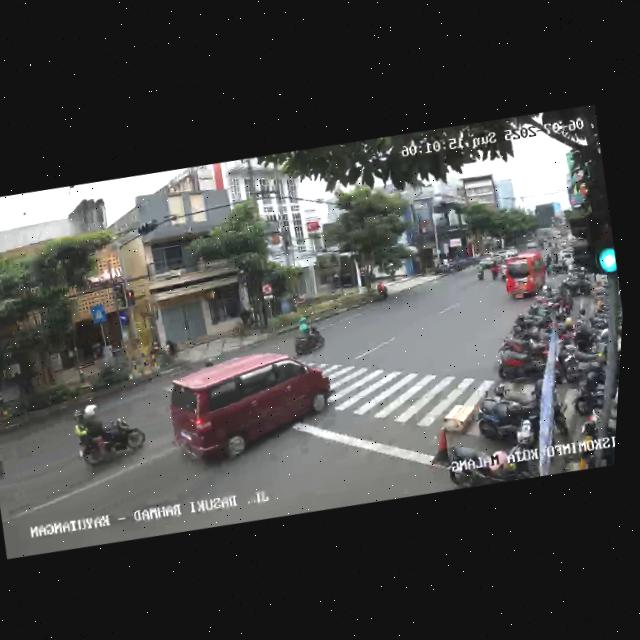car: (158, 338, 347, 478), (498, 249, 552, 305)
motorcycle: (67, 398, 154, 474), (289, 311, 330, 358)
